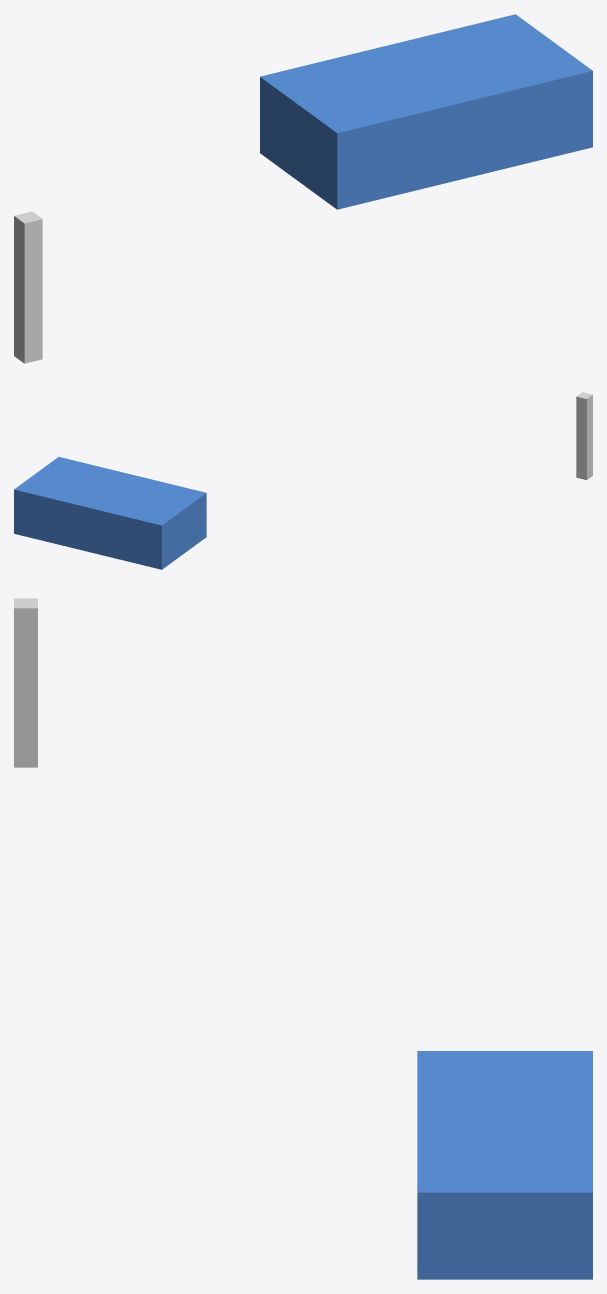
Rendered from cart.gltf.
3 views of the same model, one above another, from view 1: azimuth 30°, elevation 25°; view 2: azimuth 150°, elevation 25°; view 3: azimuth 270°, elevation 25° (orthographic). The views are drawn at different scales.
Parts seen in each view (by area): view 1: ChassisBody, MastBody; view 2: ChassisBody, MastBody; view 3: ChassisBody, MastBody.
Boxes of the visible parts, x1,y1,x2,y2 form: ChassisBody: (260,14,592,209); MastBody: (14,211,42,363); ChassisBody: (14,457,206,569); MastBody: (576,392,592,480); ChassisBody: (417,1051,592,1279); MastBody: (14,598,37,767).
Bounding box in the file's own units: 1.22 × 0.37 × 0.725.
